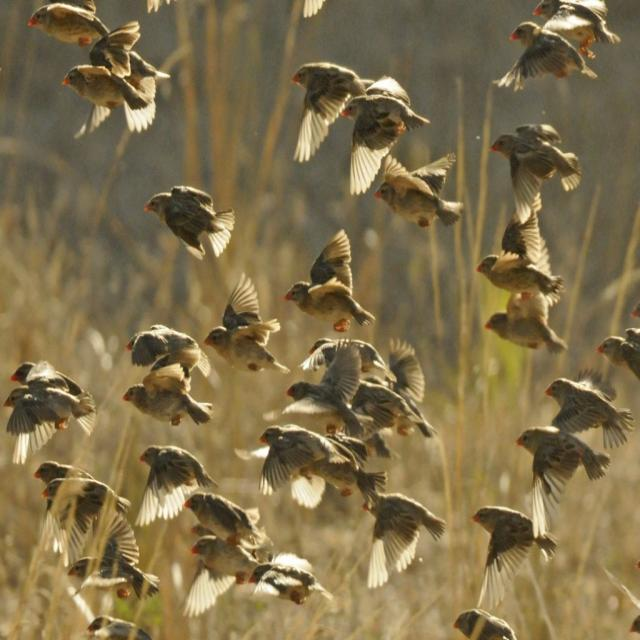bird: (476, 126, 584, 264), (234, 424, 370, 521), (516, 380, 634, 483), (28, 462, 136, 571), (349, 477, 448, 593), (268, 336, 396, 425), (470, 202, 574, 302), (0, 366, 99, 466), (54, 61, 174, 143), (341, 72, 418, 193), (121, 326, 218, 419), (508, 423, 618, 503), (461, 506, 559, 594), (370, 142, 470, 228), (490, 22, 616, 86), (505, 0, 625, 67), (280, 233, 369, 321), (126, 449, 219, 531), (475, 279, 571, 356), (23, 5, 141, 66), (283, 70, 368, 146), (142, 188, 231, 260), (183, 534, 268, 608), (120, 371, 213, 430), (251, 556, 337, 616), (203, 292, 280, 356), (181, 493, 260, 549), (592, 343, 640, 428), (602, 561, 640, 638), (448, 609, 540, 640)
